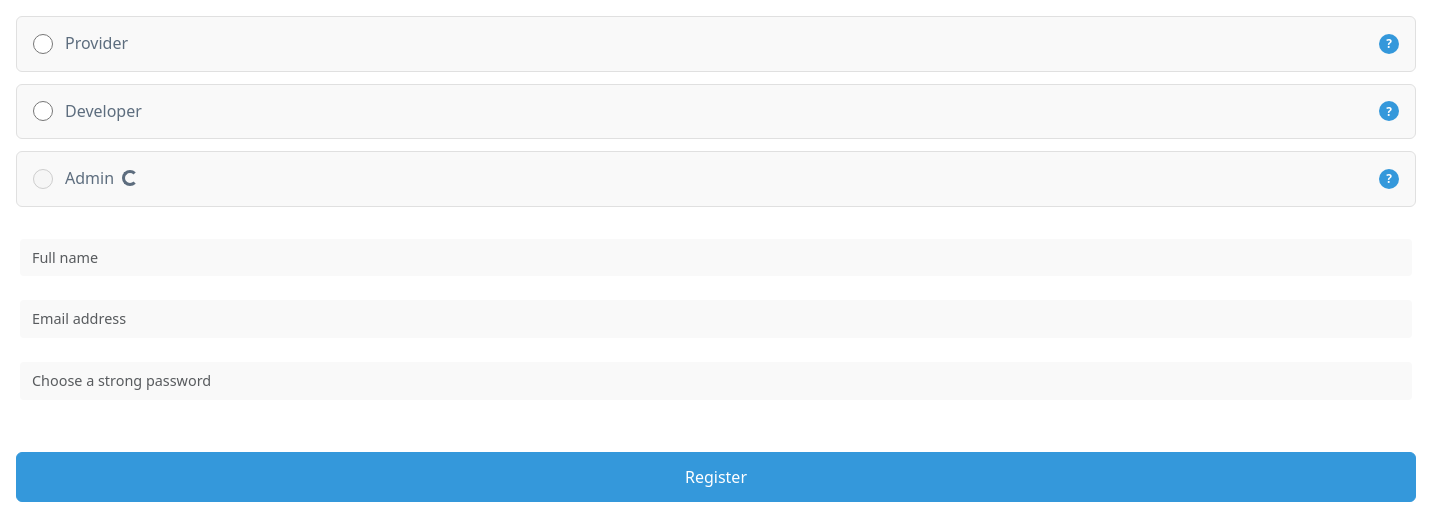
Test case: UserRegistration Component › Form submission › should display loading spinner in button during submission
Click the radio button labelled "Provider ?" at (43,44), box [33, 34, 53, 54]
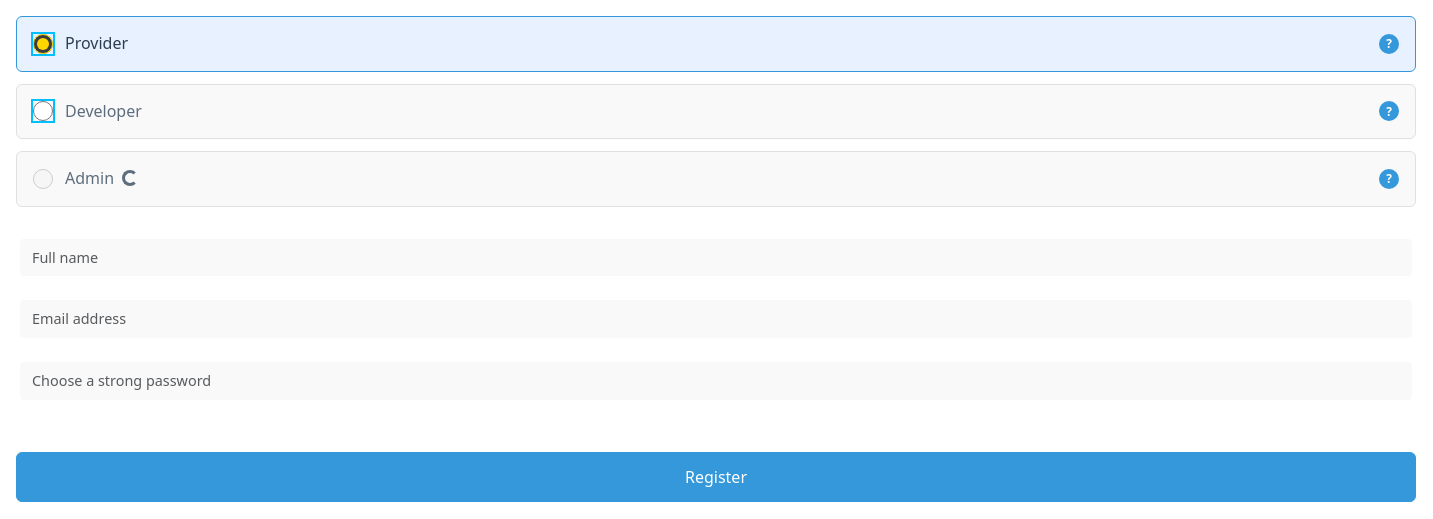
Type "John Doe" into the field with placeholder "Full name" at (716,258), box [20, 239, 1412, 276]
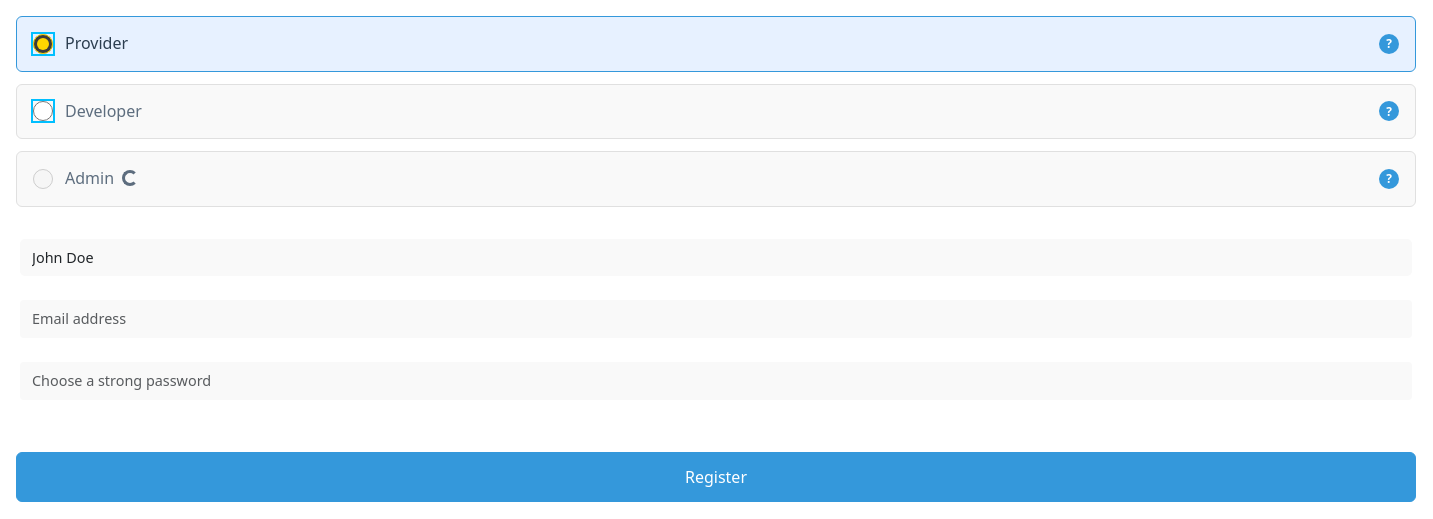
Type "john@example.com" into the field with placeholder "Email address" at (716,319), box [20, 300, 1412, 338]
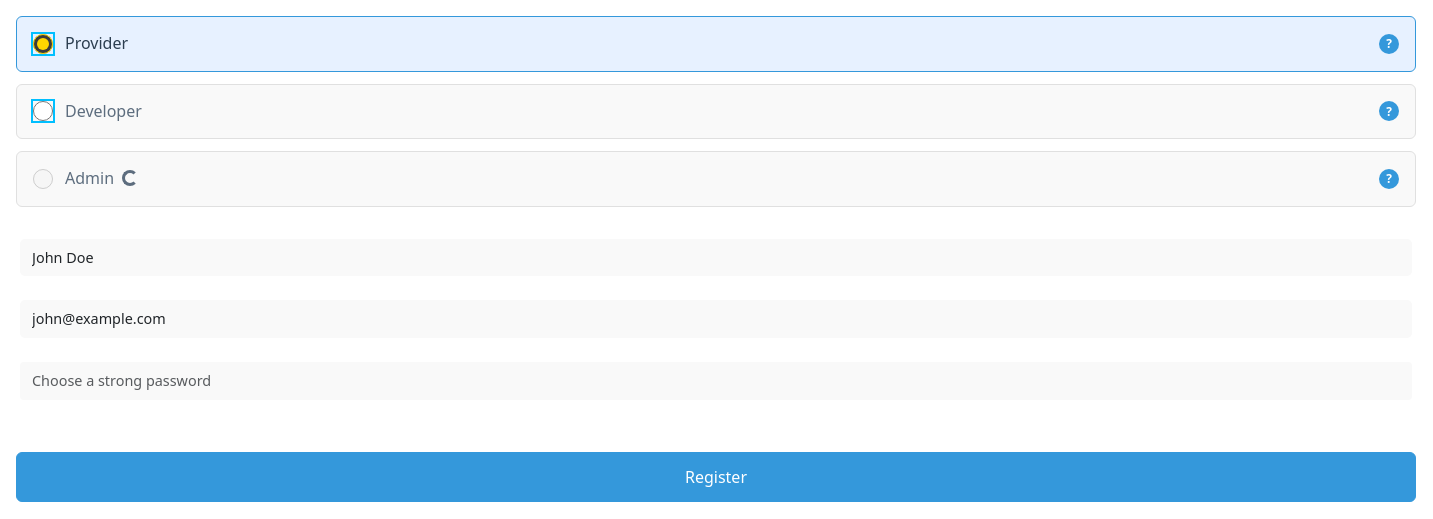
Type "password123" into the password field with placeholder "Choose a strong password" at (716,381), box [20, 362, 1412, 400]
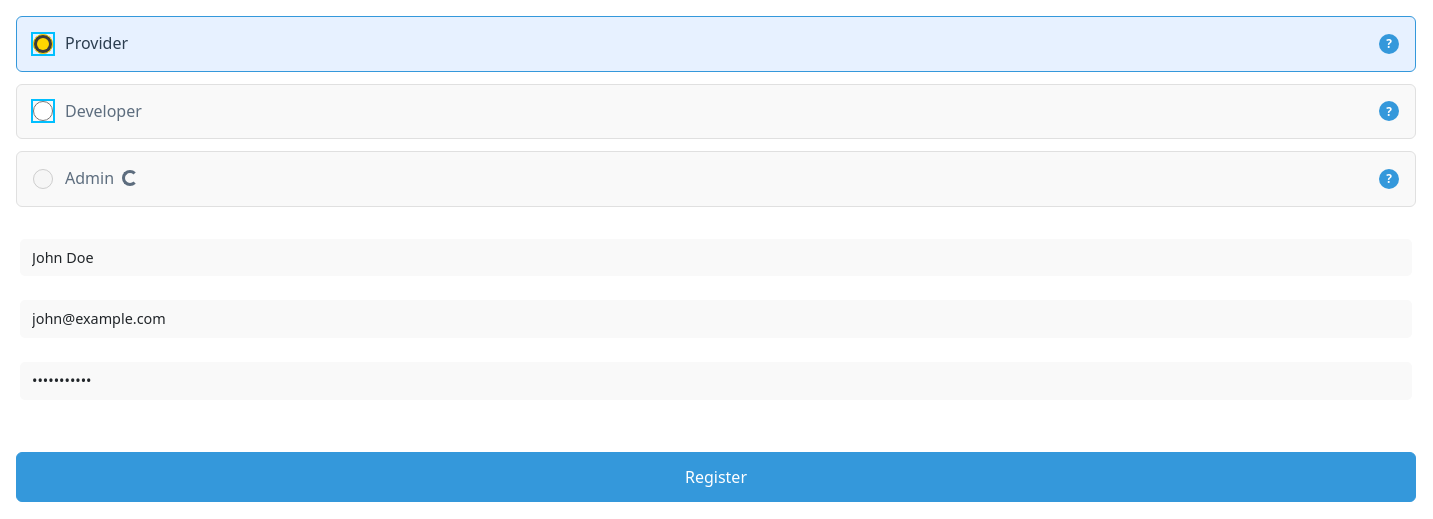
Click the button "Register" at (716,476), box [16, 452, 1416, 502]
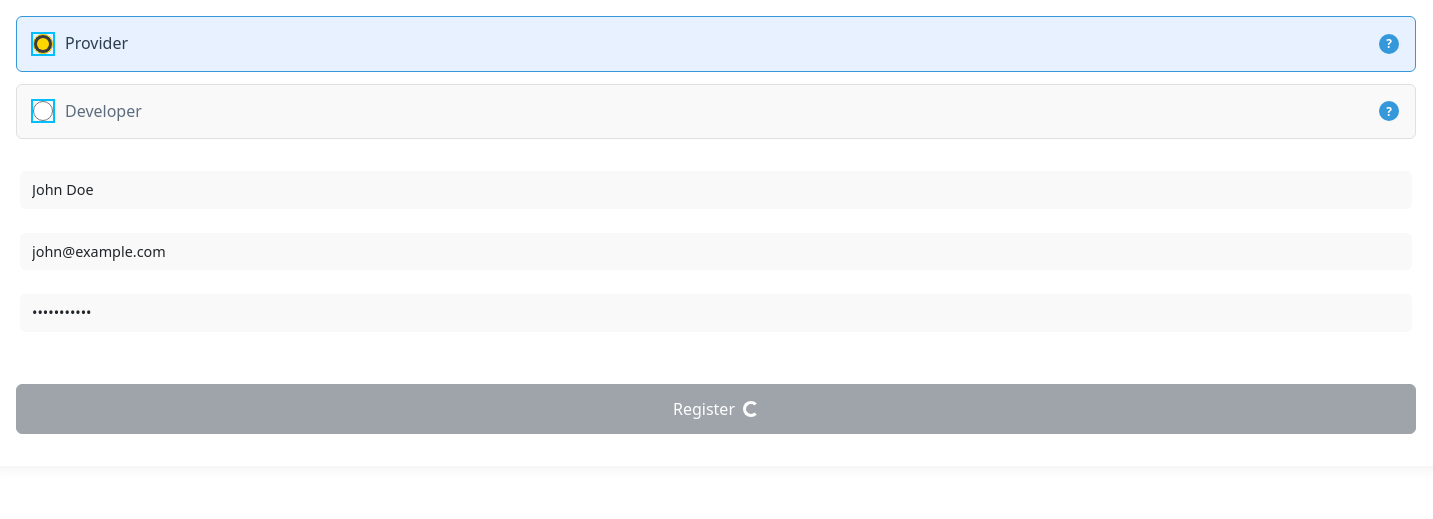
Expected: the message with class "spinner-border" is shown, [743, 401, 759, 417]
Result: the button "Register" is disabled at [16, 384, 1416, 434]
